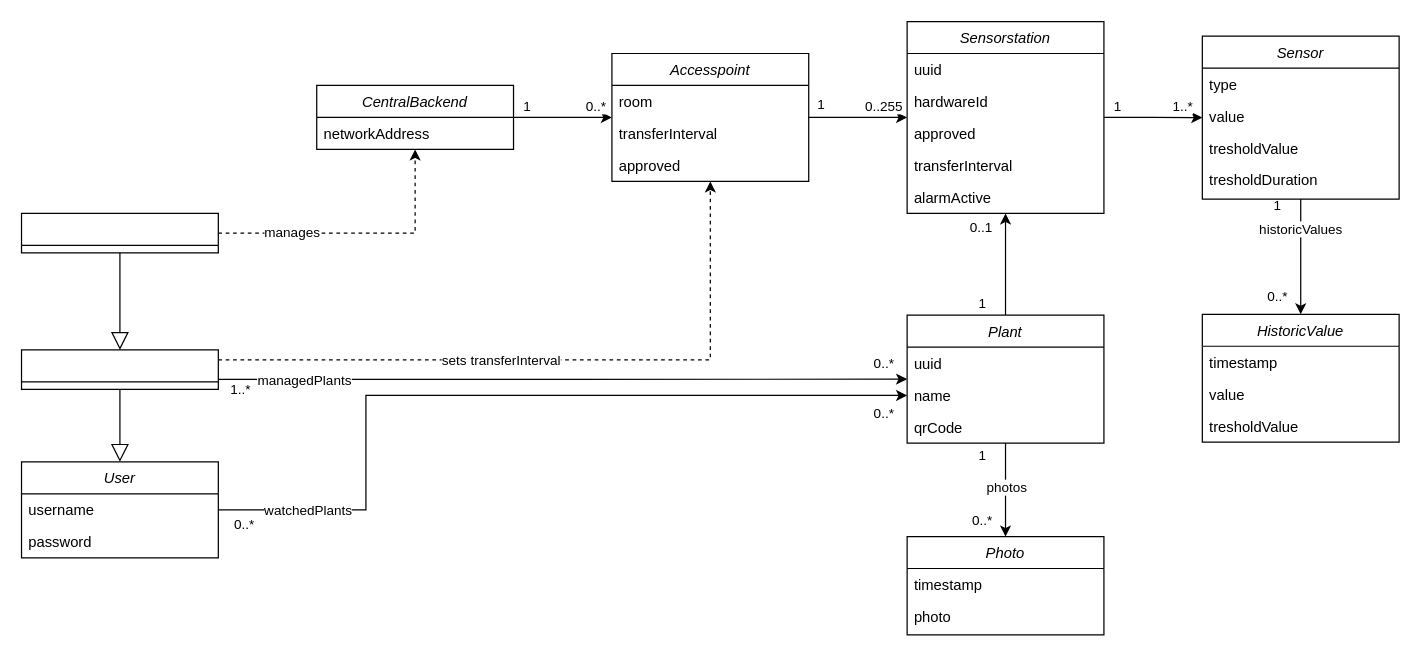
Image size: 1421x658. Some labels were removed from this diagram. Each missing label, with the centre of its shape:
"Administrator" goes at (119,232).
"Gardener" goes at (119,369).
